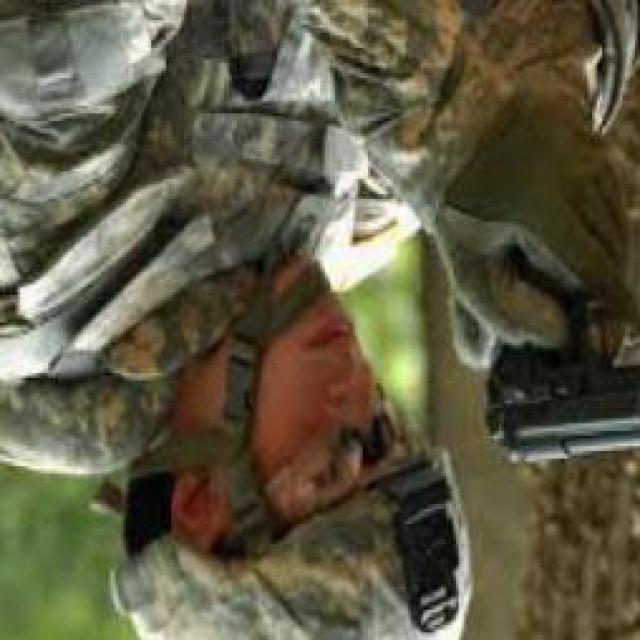pistol: (486, 244, 640, 494)
